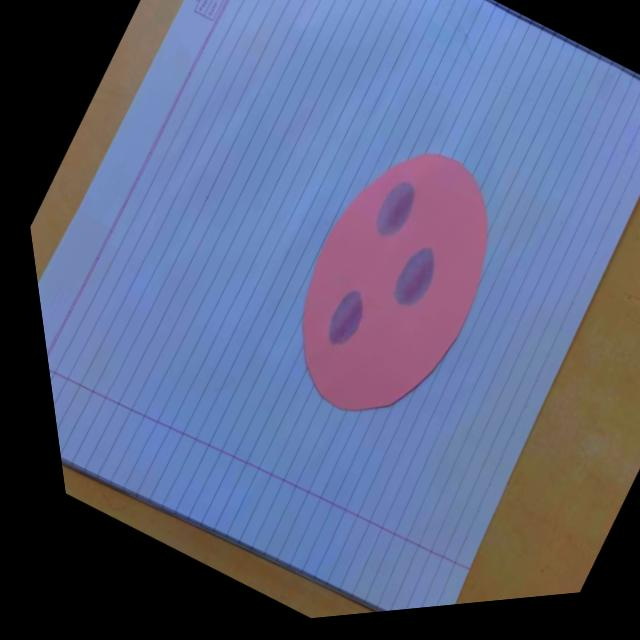BlueColor: (394, 248, 433, 304), (376, 181, 414, 235), (328, 290, 362, 344)
